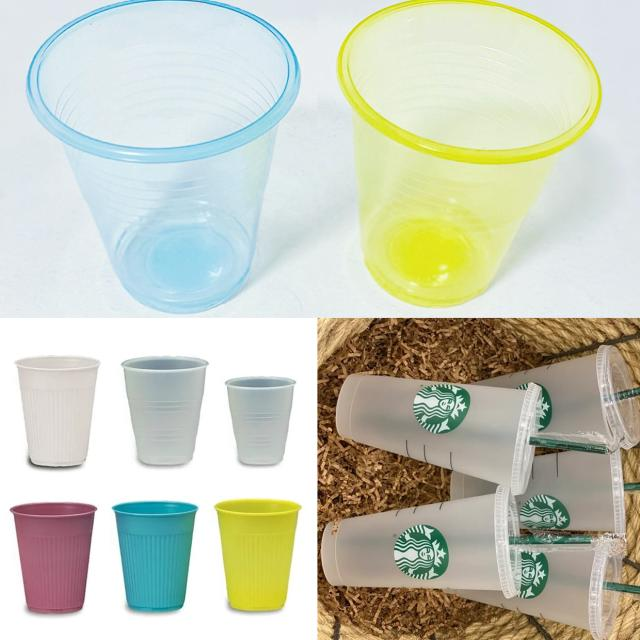plastik: (27, 0, 299, 313), (337, 0, 601, 308), (335, 375, 542, 494), (321, 486, 521, 597), (455, 535, 625, 639), (479, 345, 640, 451), (10, 502, 97, 612), (215, 499, 301, 610), (516, 450, 626, 535), (112, 501, 197, 611), (15, 355, 99, 466), (123, 357, 208, 465), (226, 376, 295, 465)
